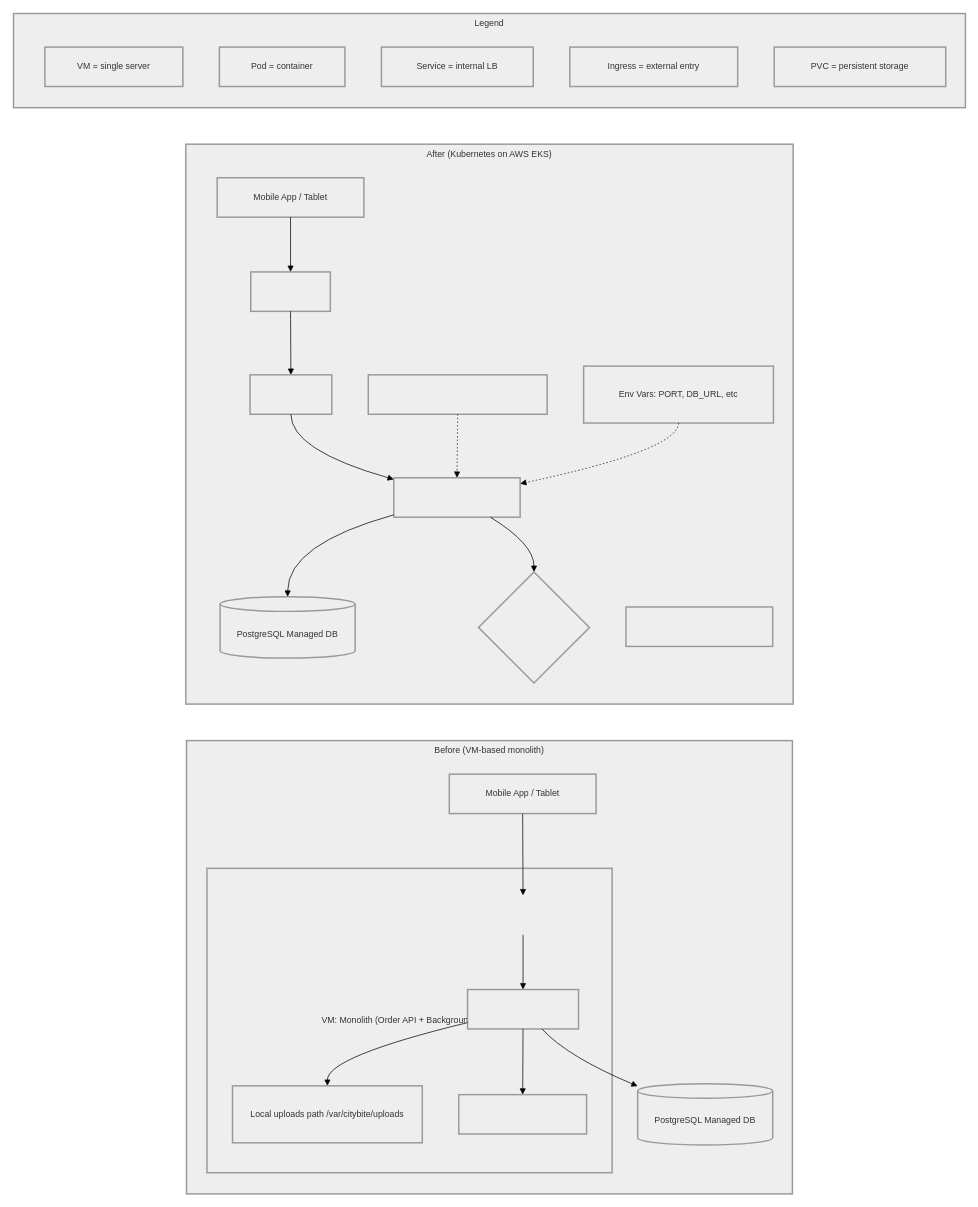
This 978x1207 diagram has some shape labels left out. Each missing label, with the centre of its shape:
.env config files: point (522, 1114)
API + Worker: point (522, 1008)
API Deployment: point (456, 497)
Horizontal Pod Autoscaler: point (457, 394)
Ingress: point (290, 291)
PVC EFS or S3: point (533, 627)
Service: point (290, 394)
Worker Deployment: point (699, 626)
